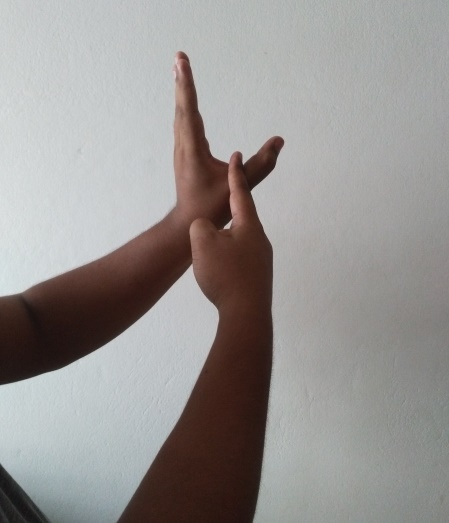dh: (161, 49, 286, 311)
